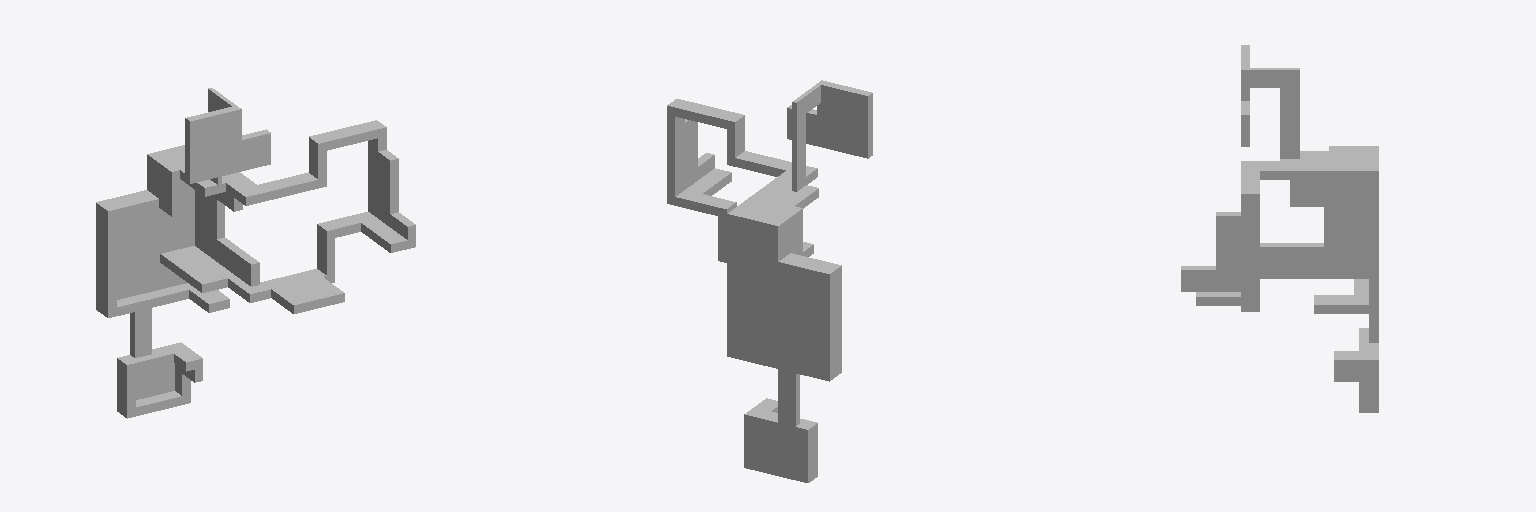
Rendered from cliff platform destroyed.obj.
3 views of the same model, side by side, from view 1: azimuth 30°, elevation 25°; view 2: azimuth 150°, elevation 25°; view 3: azimuth 270°, elevation 25° (orthographic).
Bounding box in the file's own units: 52 × 76 × 40.